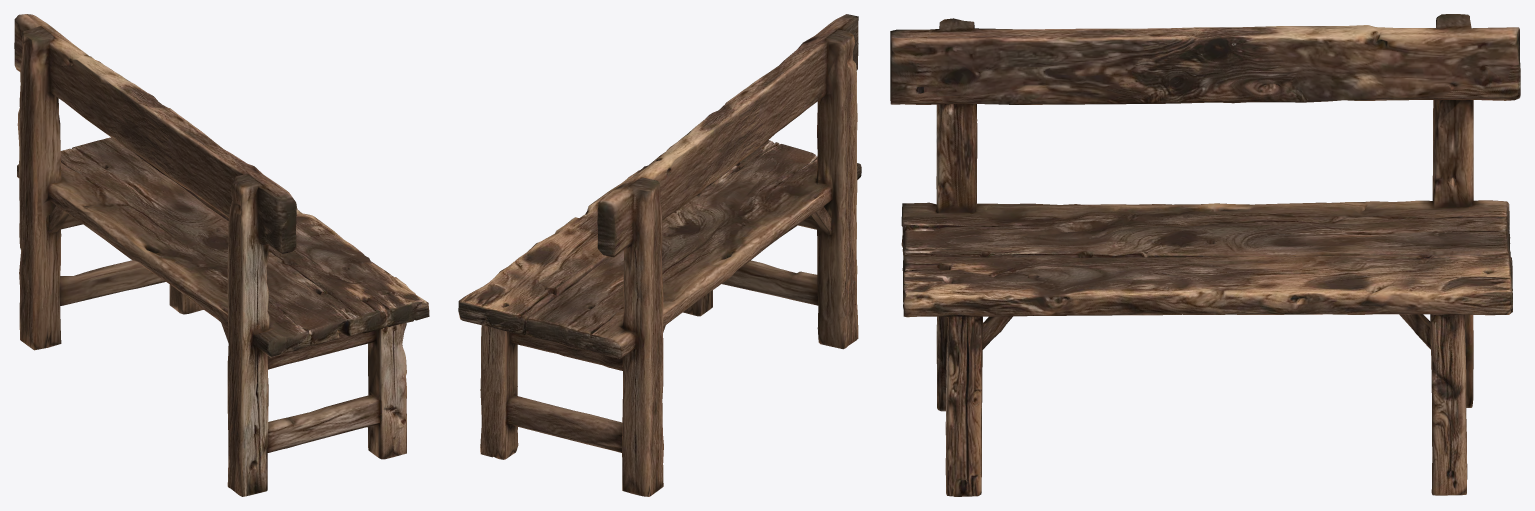
Rendered from bus-stop-bench.glb.
3 views of the same model, side by side, from view 1: azimuth 30°, elevation 25°; view 2: azimuth 150°, elevation 25°; view 3: azimuth 270°, elevation 25° (orthographic). The views are drawn at different scales.
Visible parts, largest first — view 1: tripo_node_228046a0-30e6-4b1a-b147-38c6511b5166; view 2: tripo_node_228046a0-30e6-4b1a-b147-38c6511b5166; view 3: tripo_node_228046a0-30e6-4b1a-b147-38c6511b5166.
Part boxes in pixels (bbox=[...]): tripo_node_228046a0-30e6-4b1a-b147-38c6511b5166: bbox=[14, 14, 429, 496]; tripo_node_228046a0-30e6-4b1a-b147-38c6511b5166: bbox=[458, 14, 861, 496]; tripo_node_228046a0-30e6-4b1a-b147-38c6511b5166: bbox=[890, 14, 1520, 496].
Size of the model in its own units: 0.4068 by 0.663 by 0.9999.
1 material, 1 textured.
